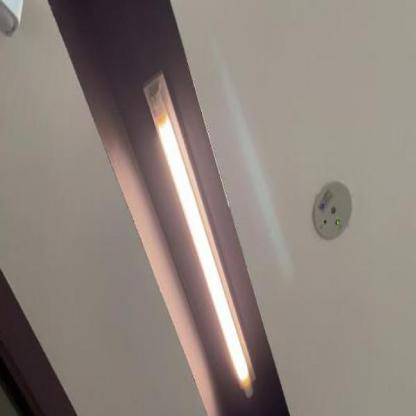light_on: (135, 60, 259, 404)
